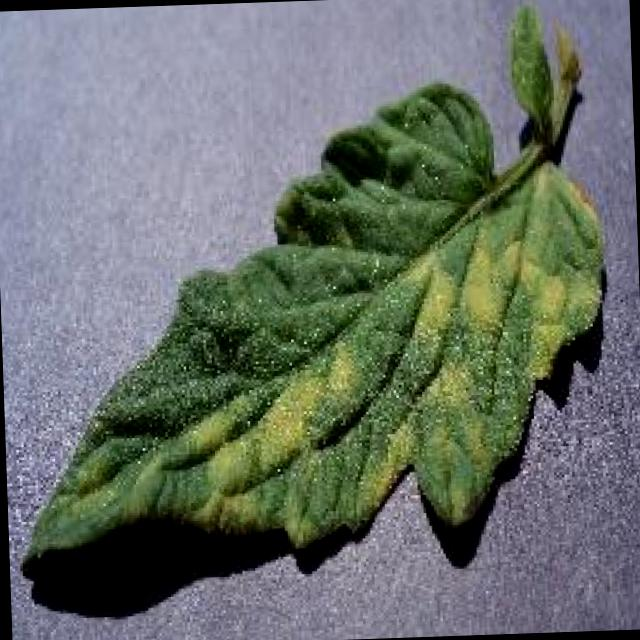leaf mold: (25, 72, 601, 553)
